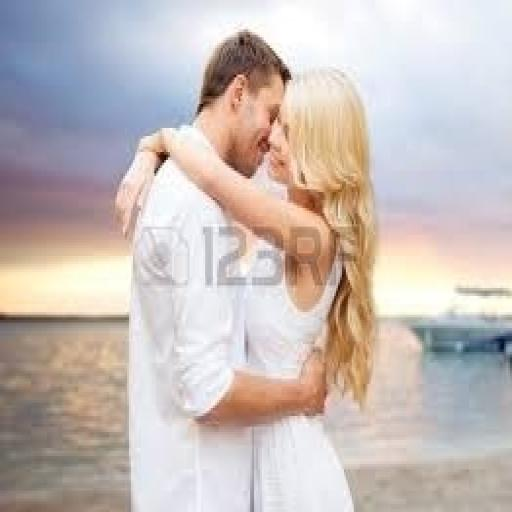hugging: (113, 27, 379, 509)
